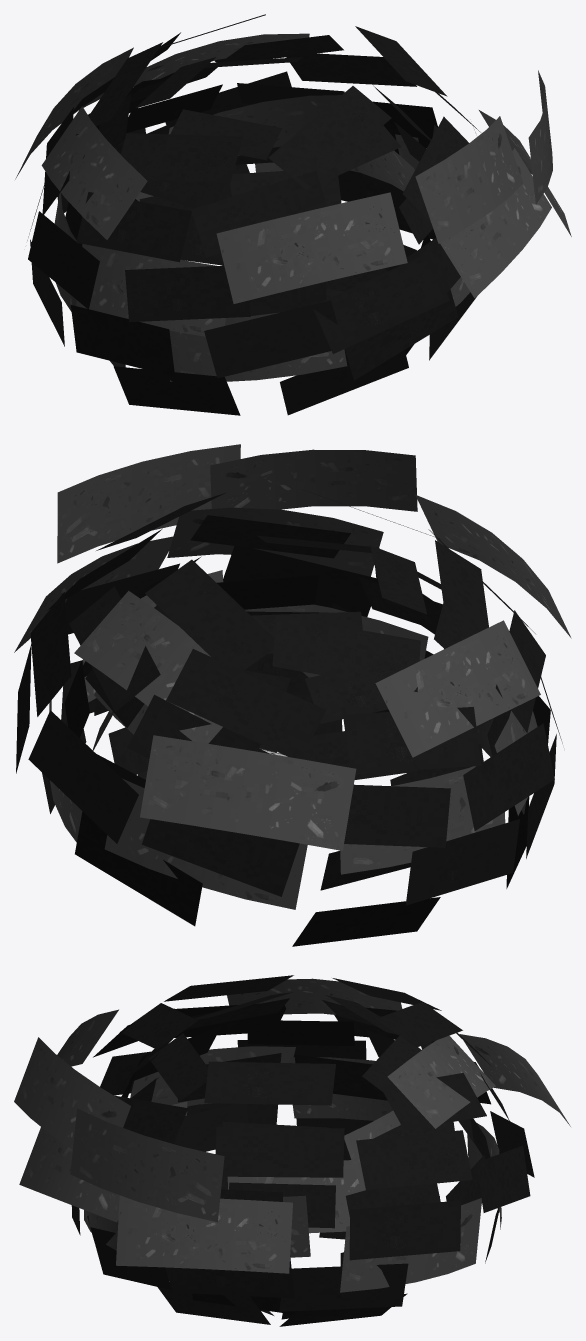
Rendered from bg3d612_00_03_top.fbx.
3 views of the same model, one above another, from view 1: azimuth 30°, elevation 25°; view 2: azimuth 150°, elevation 25°; view 3: azimuth 270°, elevation 25° (orthographic). The views are drawn at different scales.
Visible parts, largest first — view 1: skyRubbleMediumAAC_geo3, skyRubbleSmallAAA_geo4 (×2), skyRubbleSmallAAC_geo2 (×2), skyRubbleMediumAAA_geo4, skyRubbleMediumAAC_geo5, skyRubbleSmallAAA_geo1 (×2), skyRubbleSmallAAB_geo2 (×2), skyRubbleSmallAAB_geo12, skyRubbleSmallAAC_geo1 (×2), skyRubbleMediumAAA_geo3, skyRubbleSmallAAB_geo1 (×2), skyRubbleSmallAAA_geo2 (+27 smaller); view 2: skyRubbleMediumAAA_geo, skyRubbleMediumAAC_geo5, skyRubbleMediumAAA_geo4, skyRubbleMediumAAB_geo, skyRubbleSmallAAC_geo5, skyRubbleSmallAAA_geo5 (×2), skyRubbleSmallAAB_geo4 (×2), skyRubbleMediumAAA_geo1, skyRubbleSmallAAC_geo4 (×2), skyRubbleSmallAAA_geo8, skyRubbleSmallAAC_geo6, skyRubbleSmallAAA_geo6 (+29 smaller); view 3: skyRubbleMediumAAC_geo2, skyRubbleMediumAAB_geo, skyRubbleSmallAAC_geo8 (×2), skyRubbleSmallAAA_geo7 (×2), skyRubbleMediumAAA_geo4, skyRubbleSmallAAB_geo7, skyRubbleSmallAAB_geo8, skyRubbleMediumAAA_geo1, skyRubbleMediumAAA_geo2, skyRubbleSmallAAA_geo1 (×2), skyRubbleMediumAAA_geo3, skyRubbleSmallAAC_geo10 (+29 smaller).
Boxes of the visible parts, box(x1,y1,x2,y2) form: skyRubbleMediumAAC_geo3: box(216, 192, 407, 303); skyRubbleSmallAAA_geo4 (×2): box(120, 109, 282, 182); skyRubbleSmallAAC_geo2 (×2): box(204, 281, 337, 378); skyRubbleMediumAAA_geo4: box(415, 116, 523, 243); skyRubbleMediumAAC_geo5: box(41, 106, 147, 239); skyRubbleSmallAAA_geo1 (×2): box(268, 86, 401, 189); skyRubbleSmallAAB_geo2 (×2): box(125, 217, 250, 322); skyRubbleSmallAAB_geo12: box(313, 253, 449, 353); skyRubbleSmallAAC_geo1 (×2): box(191, 167, 341, 257); skyRubbleMediumAAA_geo3: box(440, 148, 551, 298); skyRubbleSmallAAB_geo1 (×2): box(76, 180, 226, 262); skyRubbleSmallAAA_geo2: box(70, 305, 175, 376); skyRubbleMediumAAA_geo: box(140, 735, 356, 850); skyRubbleMediumAAC_geo5: box(375, 620, 540, 757); skyRubbleMediumAAA_geo4: box(210, 449, 417, 511); skyRubbleMediumAAB_geo: box(57, 444, 240, 563); skyRubbleSmallAAC_geo5: box(166, 649, 326, 758); skyRubbleSmallAAA_geo5 (×2): box(251, 611, 420, 692); skyRubbleSmallAAB_geo4 (×2): box(305, 675, 481, 773); skyRubbleMediumAAA_geo1: box(74, 590, 222, 743); skyRubbleSmallAAC_geo4 (×2): box(301, 731, 450, 847); skyRubbleSmallAAA_geo8: box(145, 559, 280, 677); skyRubbleSmallAAC_geo6: box(142, 819, 299, 896); skyRubbleSmallAAA_geo6: box(28, 710, 138, 843); skyRubbleMediumAAC_geo2: box(116, 1195, 292, 1273); skyRubbleMediumAAB_geo: box(70, 1108, 224, 1222); skyRubbleSmallAAC_geo8 (×2): box(215, 1127, 344, 1228); skyRubbleSmallAAA_geo7 (×2): box(345, 1130, 472, 1216); skyRubbleMediumAAA_geo4: box(14, 1037, 130, 1149); skyRubbleSmallAAB_geo7: box(349, 1200, 460, 1260); skyRubbleSmallAAB_geo8: box(204, 1061, 335, 1105); skyRubbleMediumAAA_geo1: box(387, 1035, 495, 1128); skyRubbleMediumAAA_geo2: box(340, 1198, 481, 1292); skyRubbleSmallAAA_geo1 (×2): box(120, 1003, 207, 1101); skyRubbleMediumAAA_geo3: box(19, 1127, 119, 1222); skyRubbleSmallAAC_geo10: box(279, 1263, 408, 1311).
Size of the model in its own units: 378 by 247 by 417.
